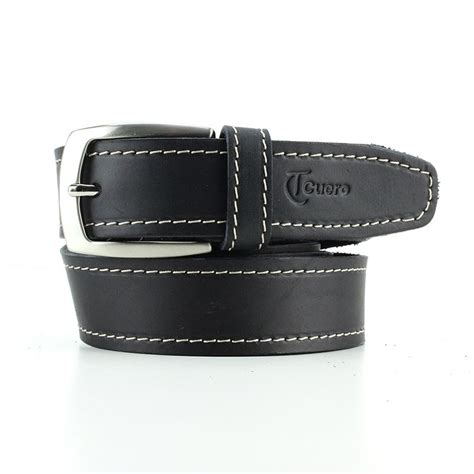cuero: (51, 125, 438, 357)
